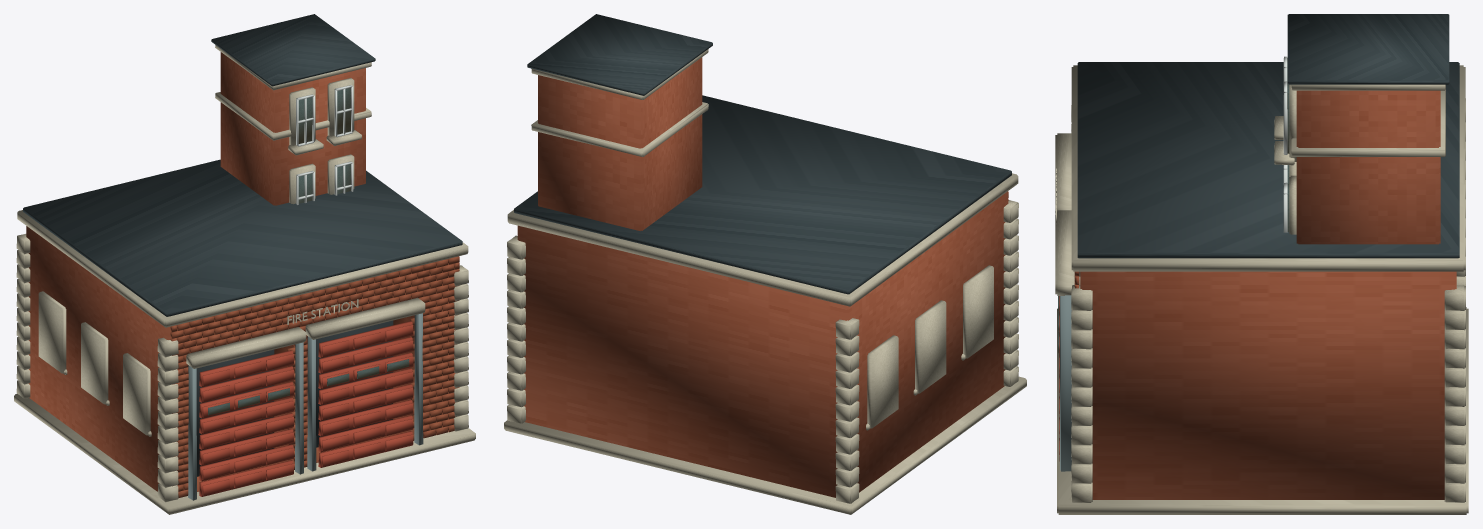
3 views of the same model, side by side, from view 1: azimuth 30°, elevation 25°; view 2: azimuth 150°, elevation 25°; view 3: azimuth 270°, elevation 25° (orthographic). The views are drawn at different scales.
Visible parts, largest first — view 1: fire_station__static_warm_brick, fire_station__static_slate, fire_station__static_limestone, fire_station__apparatus_door_02, fire_station__apparatus_door_01, fire_station__static_patinated_metal, fire_station__static_recess_/_shadow_joints, fire_station__static_civic_pale_painted_trim, fire_station__static_warm_glazing, fire_station__apparatus_door_01__segmented_apparatus_door; view 2: fire_station__static_warm_brick, fire_station__static_slate, fire_station__static_limestone; view 3: fire_station__static_warm_brick, fire_station__static_slate, fire_station__static_limestone, fire_station__static_patinated_metal, fire_station__static_civic_pale_painted_trim.
Boxes of the visible parts, <box> form: fire_station__static_warm_brick: <box>26,52,459,497</box>; fire_station__static_slate: <box>23,14,462,316</box>; fire_station__static_limestone: <box>14,45,475,514</box>; fire_station__apparatus_door_02: <box>318,321,413,467</box>; fire_station__apparatus_door_01: <box>199,350,293,488</box>; fire_station__static_patinated_metal: <box>188,313,423,500</box>; fire_station__static_recess_/_shadow_joints: <box>196,320,393,476</box>; fire_station__static_civic_pale_painted_trim: <box>296,85,353,204</box>; fire_station__static_warm_glazing: <box>296,87,350,203</box>; fire_station__apparatus_door_01__segmented_apparatus_door: <box>199,460,293,496</box>; fire_station__static_warm_brick: <box>517,57,1008,497</box>; fire_station__static_slate: <box>514,14,1011,294</box>; fire_station__static_limestone: <box>504,49,1026,514</box>; fire_station__static_warm_brick: <box>1074,90,1456,499</box>; fire_station__static_slate: <box>1077,14,1459,258</box>; fire_station__static_limestone: <box>1055,65,1468,514</box>; fire_station__static_patinated_metal: <box>1060,295,1071,471</box>; fire_station__static_civic_pale_painted_trim: <box>1283,56,1287,232</box>.
Size of the model in its own units: 8 by 8 by 7.02.
Materials: 8 (4 with a texture image).
